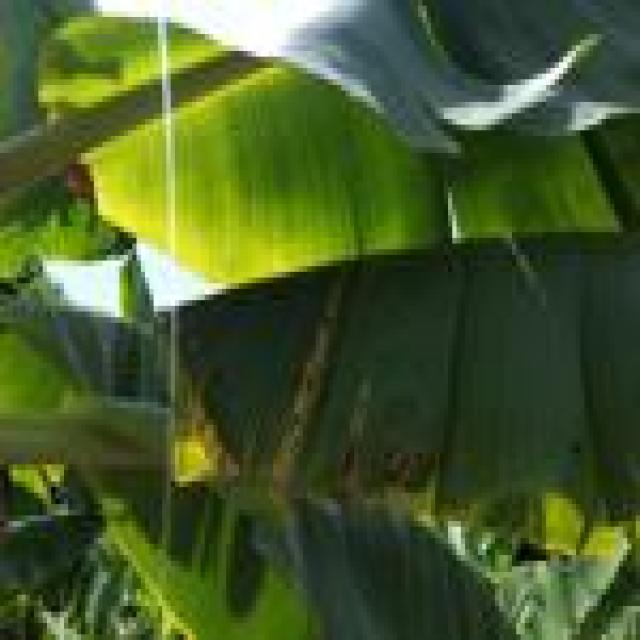Early_rust: (127, 275, 451, 545)
